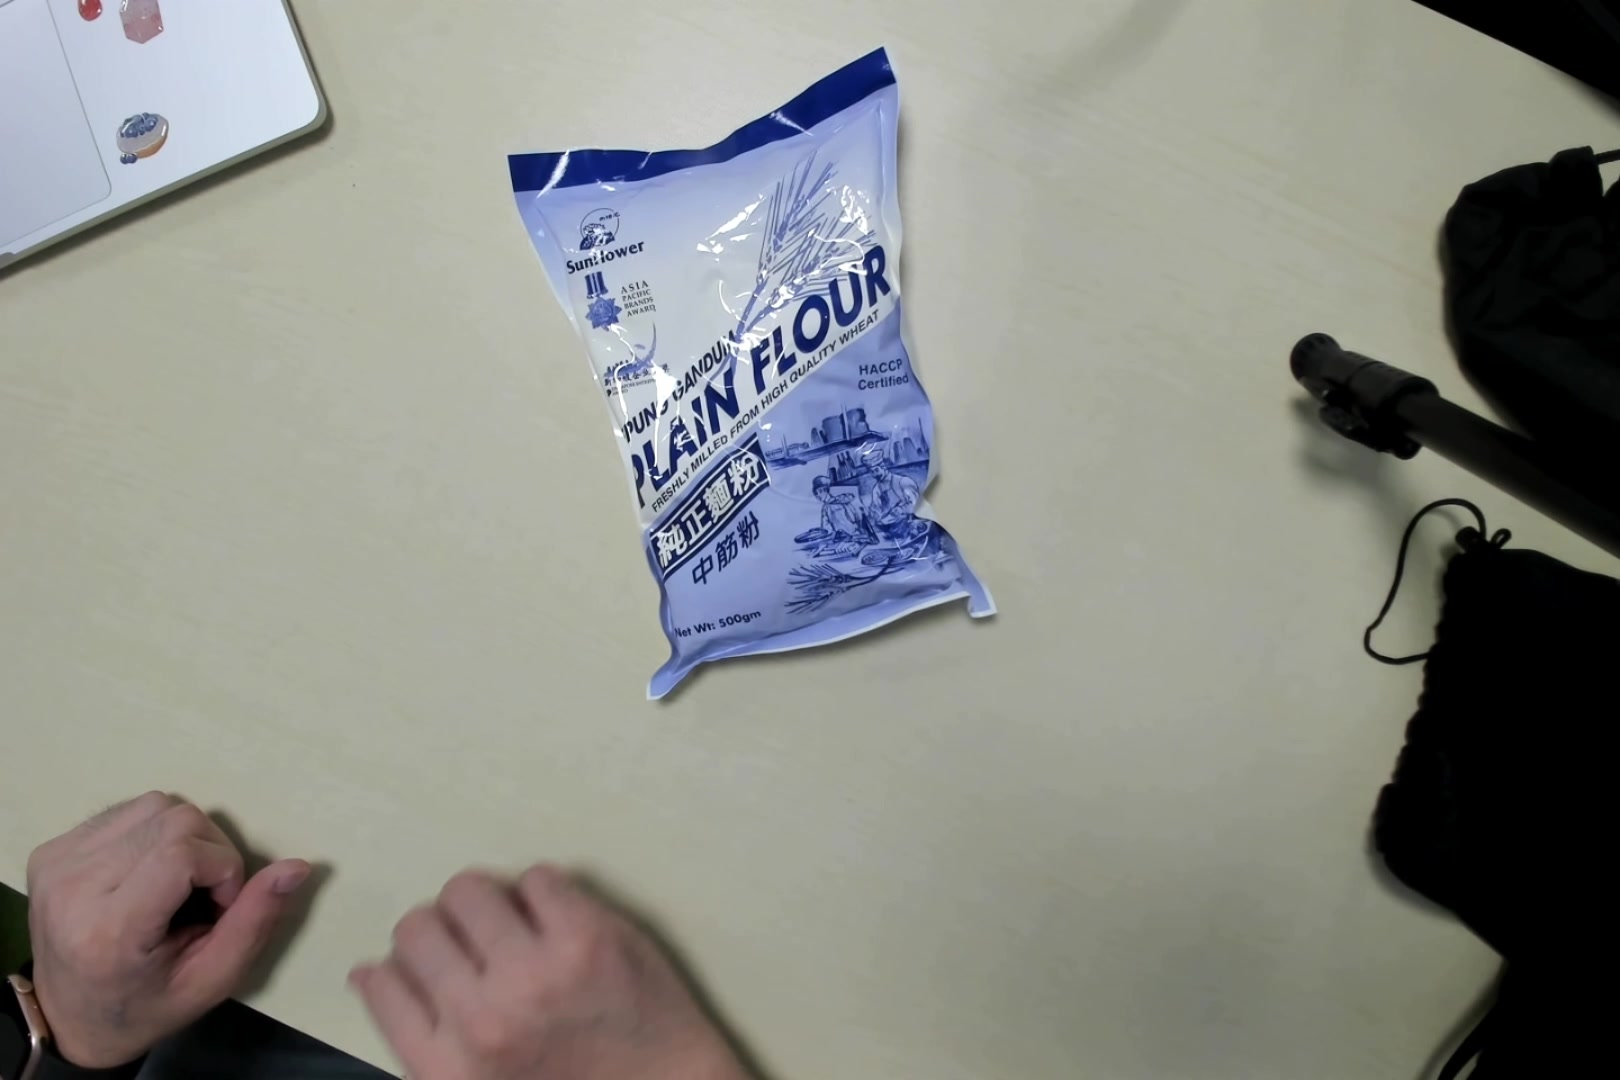Flour_500-599g_NonHalal_NonHealthy: (522, 49, 988, 709)
